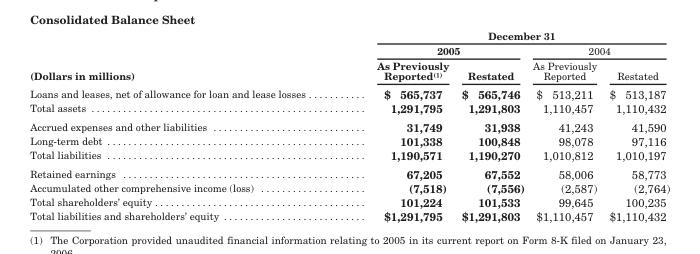table: (29, 28, 669, 222)
table column: (29, 28, 340, 222), (340, 28, 454, 222), (527, 28, 602, 222), (454, 28, 527, 222), (602, 28, 669, 222)
table column header: (29, 28, 669, 84)
table row: (29, 57, 669, 84), (29, 100, 669, 117), (29, 147, 669, 164), (29, 164, 669, 181), (29, 84, 669, 100), (29, 117, 669, 133), (29, 42, 669, 57), (29, 28, 669, 42), (29, 133, 669, 147), (29, 181, 669, 195), (29, 208, 669, 222), (29, 195, 669, 208)
table spanning cell: (29, 28, 340, 84), (340, 28, 669, 42), (340, 42, 527, 57), (527, 42, 669, 57)
